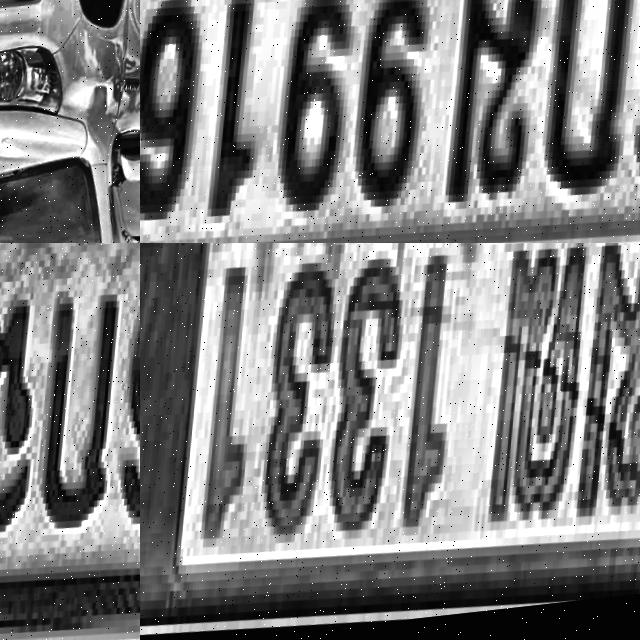license-plate: (140, 243, 640, 640), (140, 0, 640, 243), (0, 243, 140, 640)
